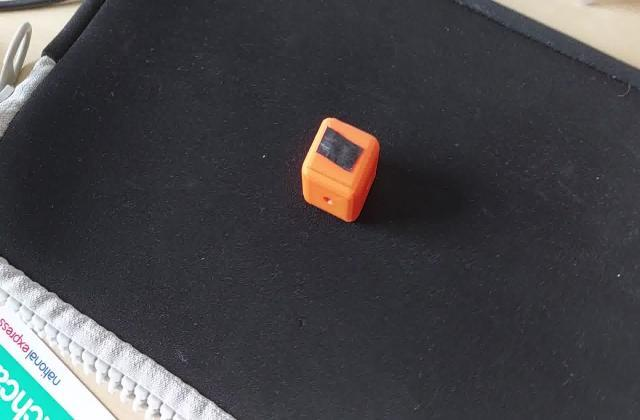black: (315, 133, 370, 173)
sticker: (299, 116, 382, 227)
